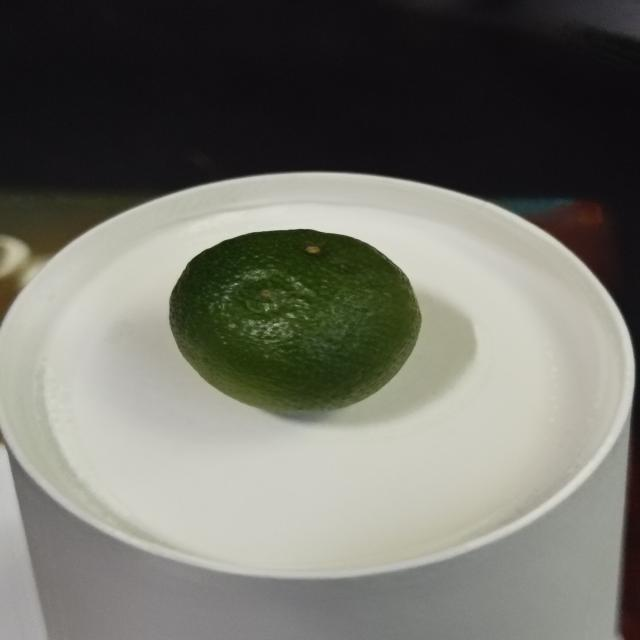heathy: (164, 226, 424, 412)
